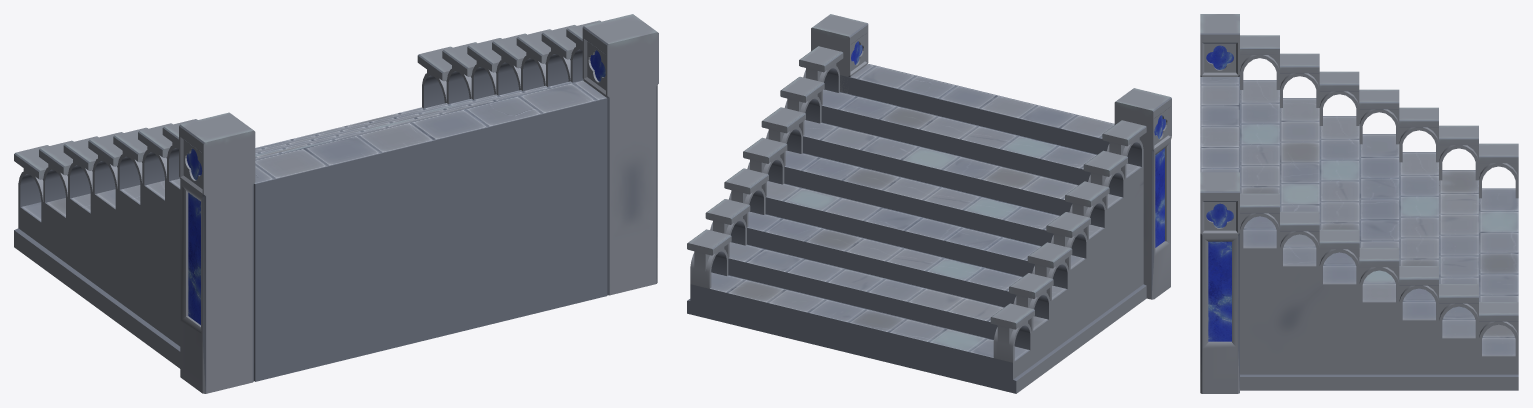
Rendered from Bridge_L_03.fbx.
3 renders of one model, left to right at view 1: azimuth 30°, elevation 25°; view 2: azimuth 150°, elevation 25°; view 3: azimuth 270°, elevation 25°, orthographic. The views are drawn at different scales.
Visible parts, largest first — view 1: Bridge_L_03; view 2: Bridge_L_03; view 3: Bridge_L_03.
Boxes of the visible parts, box(x1,y1,x2,y2) form: Bridge_L_03: box(14, 14, 658, 393); Bridge_L_03: box(687, 14, 1171, 393); Bridge_L_03: box(1200, 14, 1518, 393).
Size of the model in its own units: 1060 by 560 by 800.
1 material, 1 textured.
